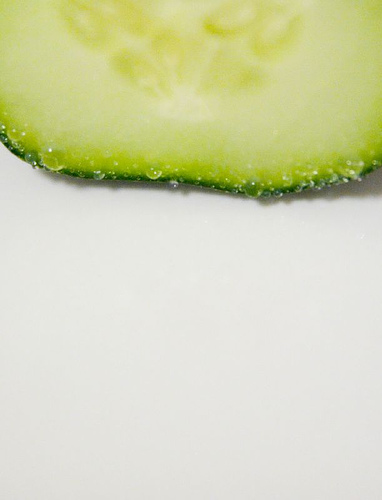cucumber: (0, 3, 380, 198)
